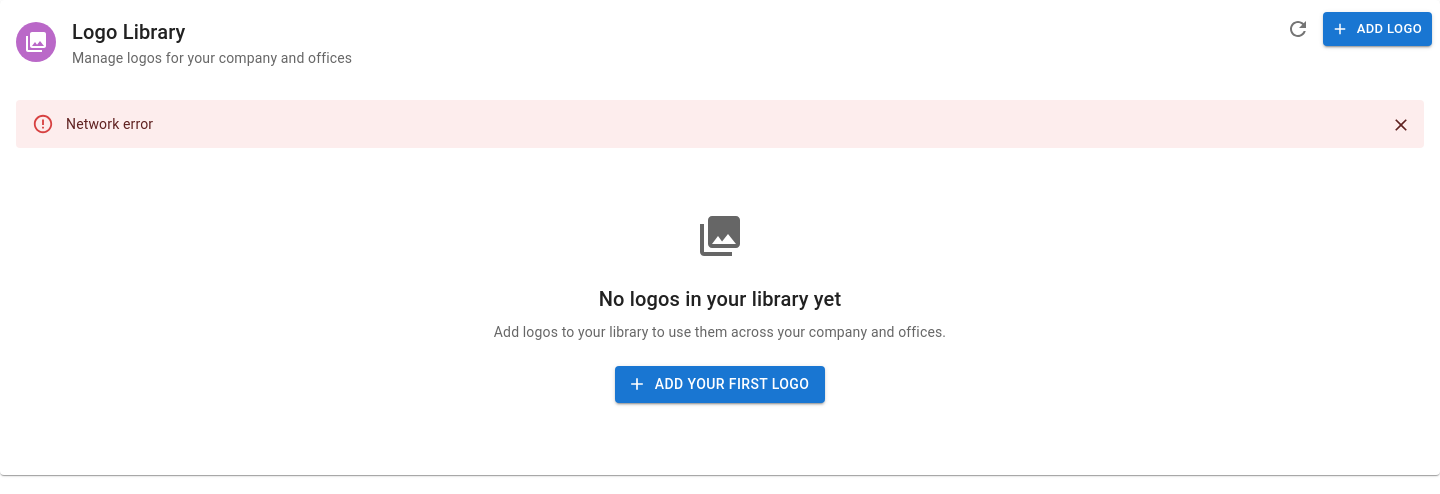
Scenario: LogoLibrarySection › error handling › should allow dismissing error message
Expected: the text "Network error" is shown, 66,116 -> 153,132
Note: Find and click the close button on the alert
Click the button named "Close": (1401, 125) 1386,110 -> 1416,140
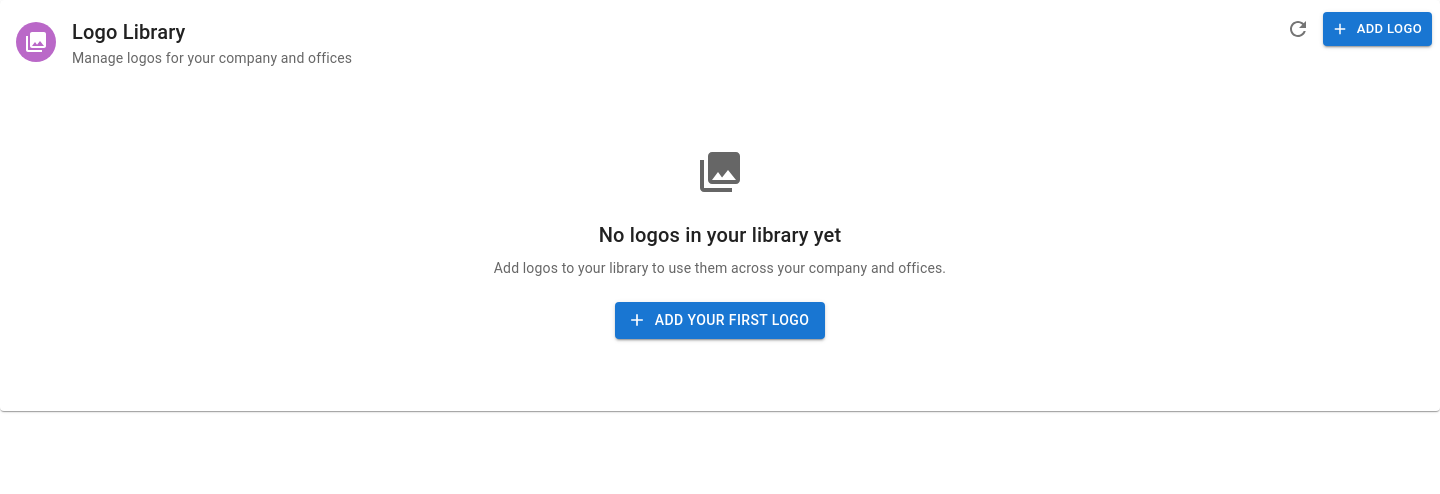
Now the text "Network error" is gone
